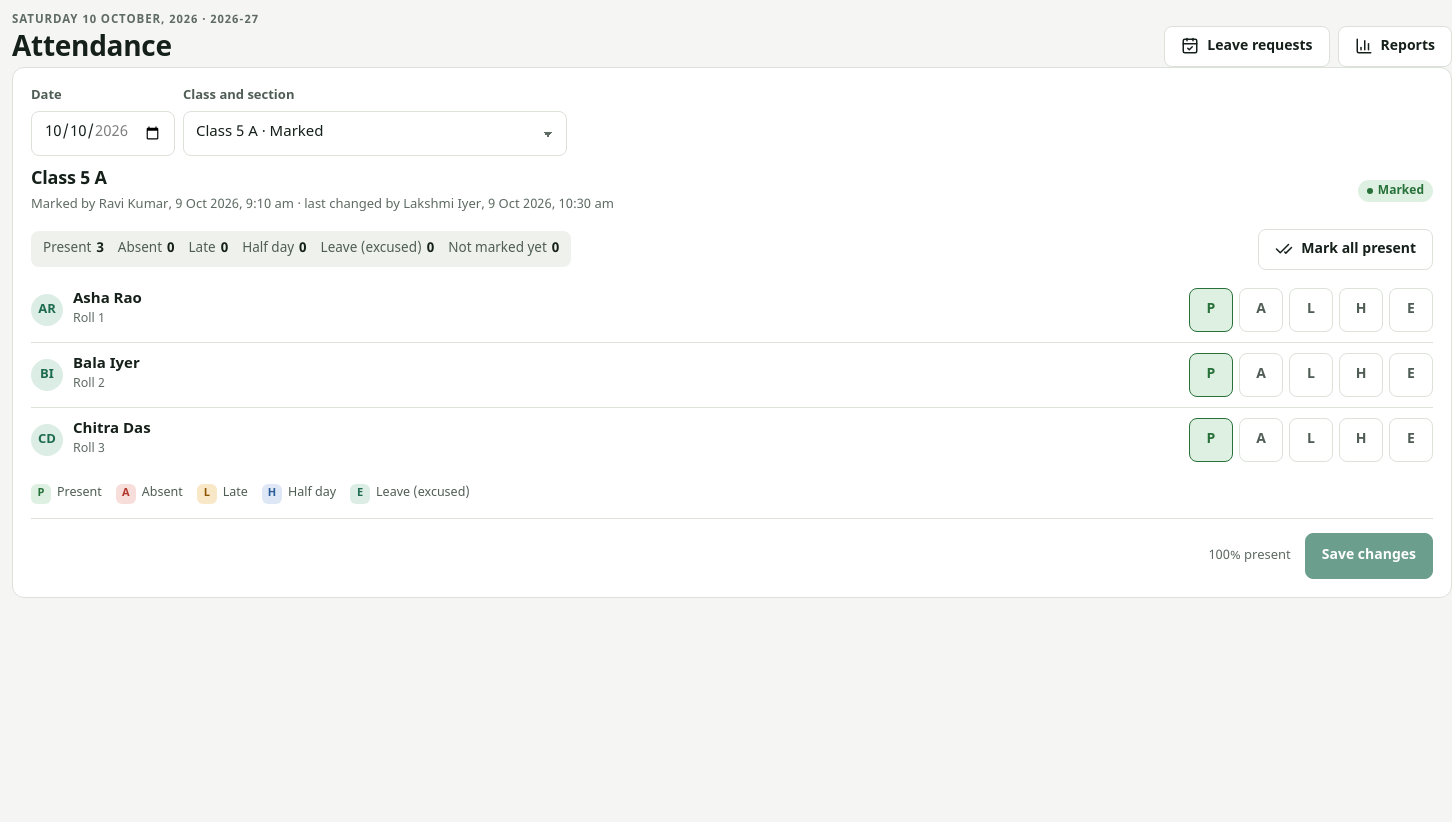
Test: AttendanceView › shows who marked a register and lets it be edited
This screenshot has width=1452, height=822.
Expected: the text with test id "register-meta" shows "Marked by Ravi Kumar", [31,196,294,213]
Expected: the text with test id "register-meta" shows "last changed by Lakshmi Iyer", [294,196,614,213]
What coordinates should you click on to do the following:
click the button named "Absent"
I would click on:
 (1261, 440)
Its box is [1239,418,1283,462].
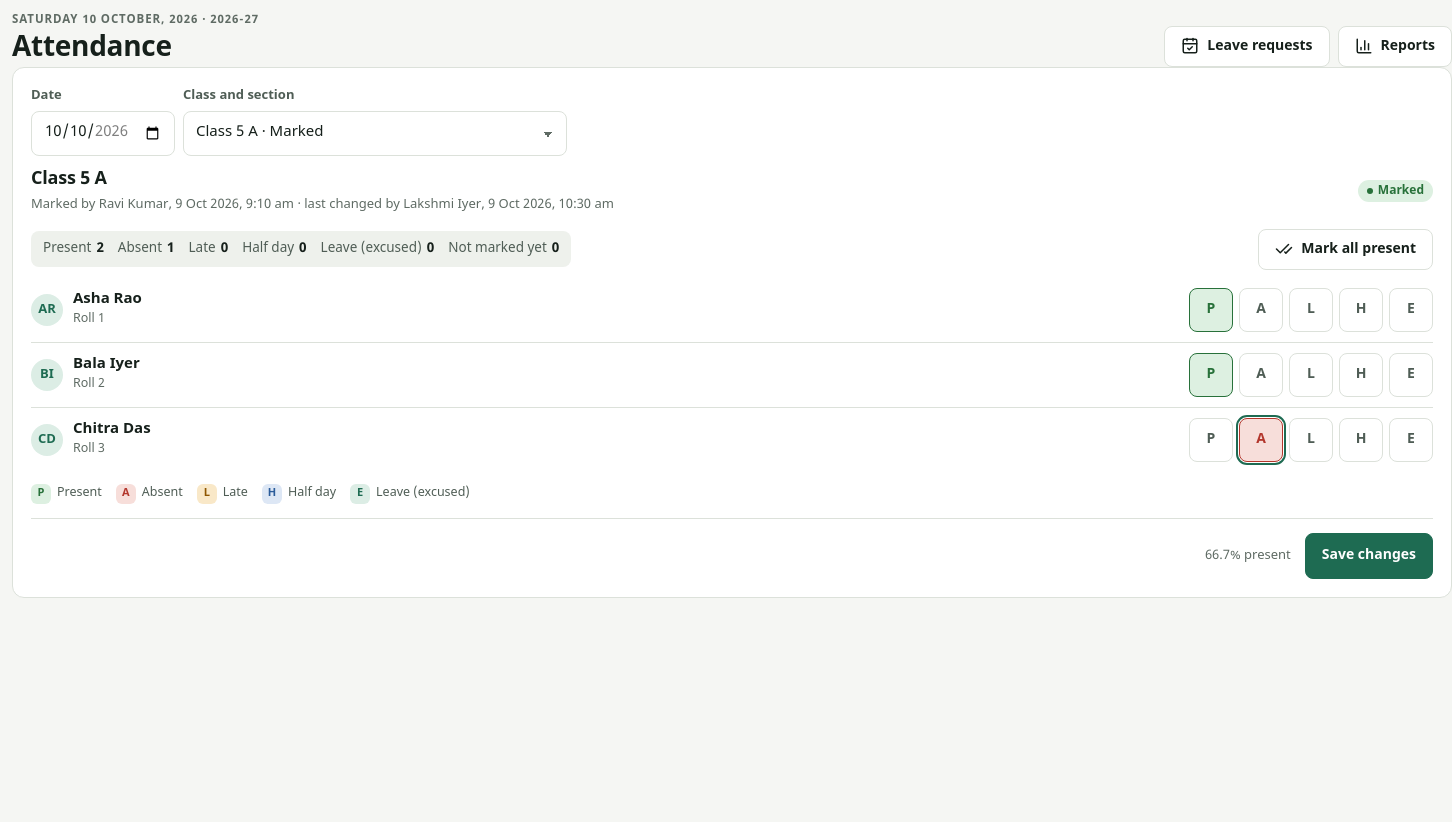
Now the button "Save changes" is enabled, box [1305,533,1433,579]
